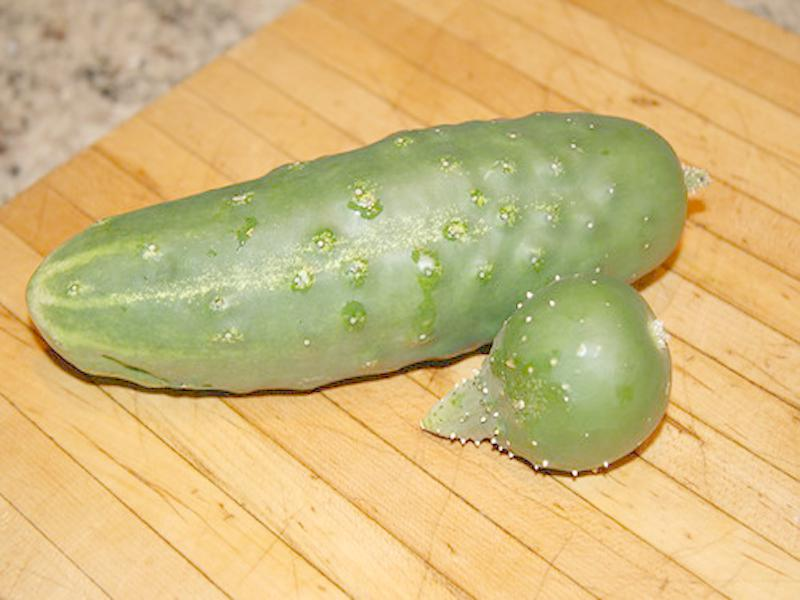Cucumber: (24, 112, 688, 395)
